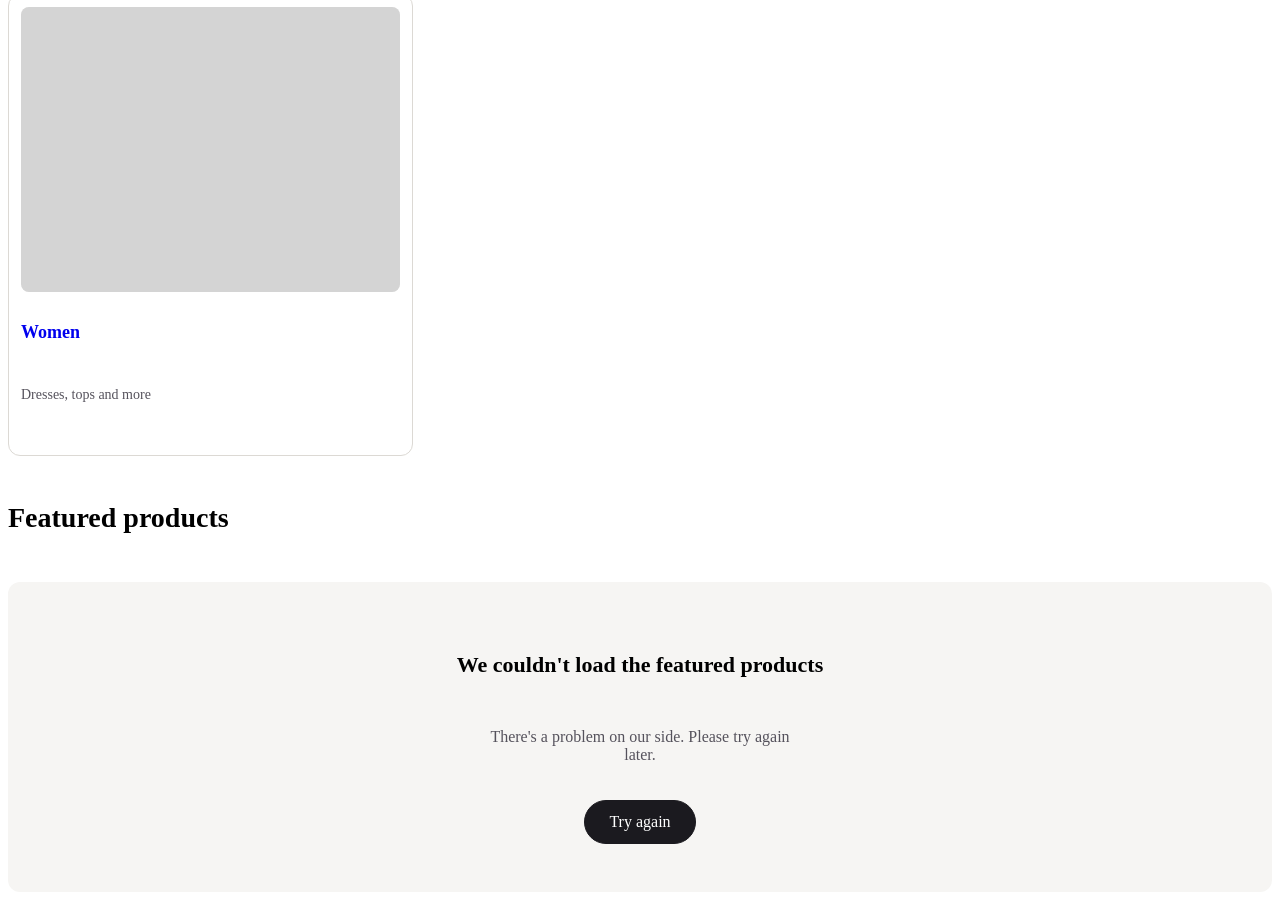
HomePage › shows a section error with retry for featured products while categories still render
The width and height of the screenshot is (1280, 900).
(page scrolled)
Expected: the message shows "We couldn't load the featured products", [457,652,823,677]
Expected: the link "Women" is shown, [21,322,80,342]
Click the button "Try again". click: (640, 822)
box: [584,800,696,844]
(page scrolled)
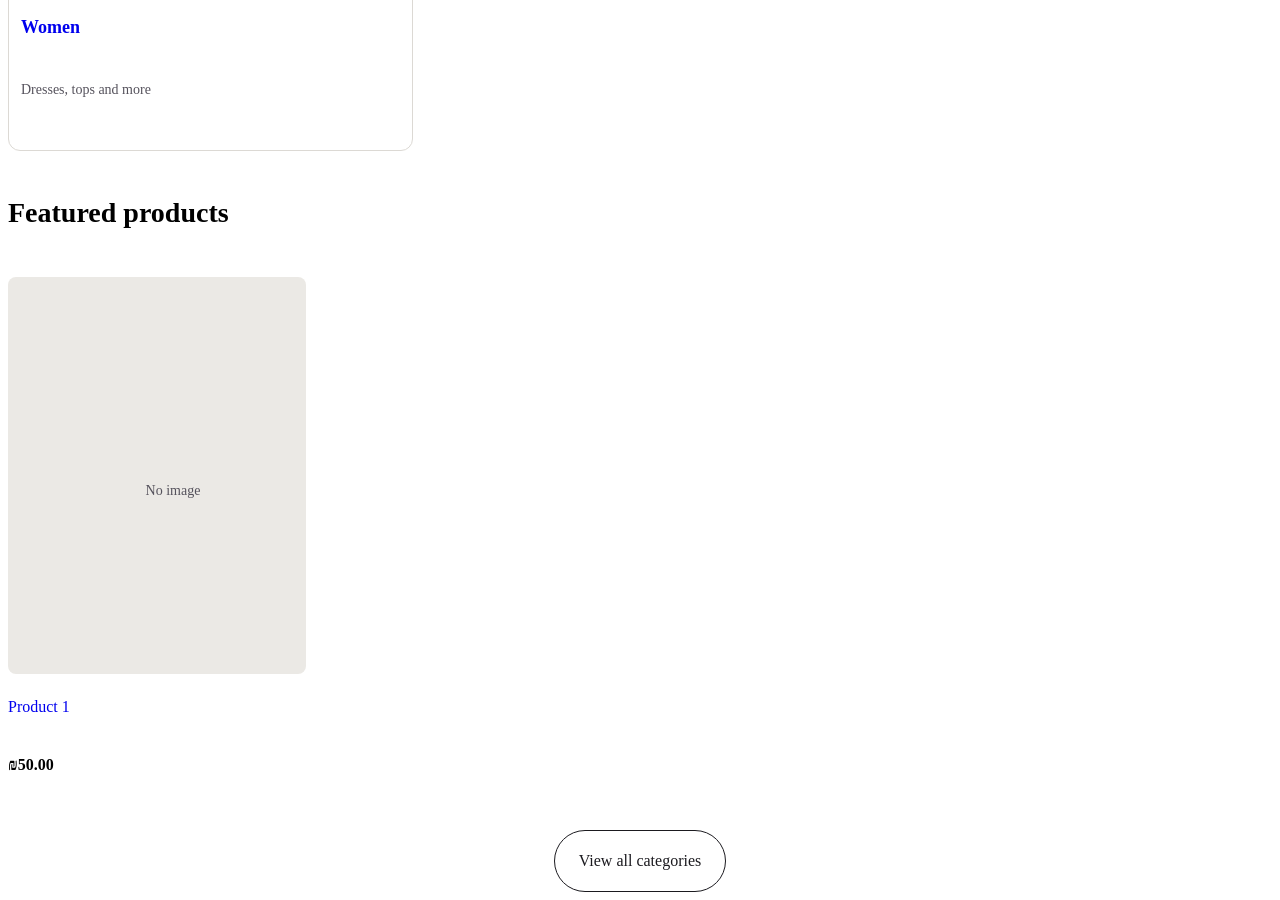
Result: the link "Product 1" is shown at [8,698,70,715]
